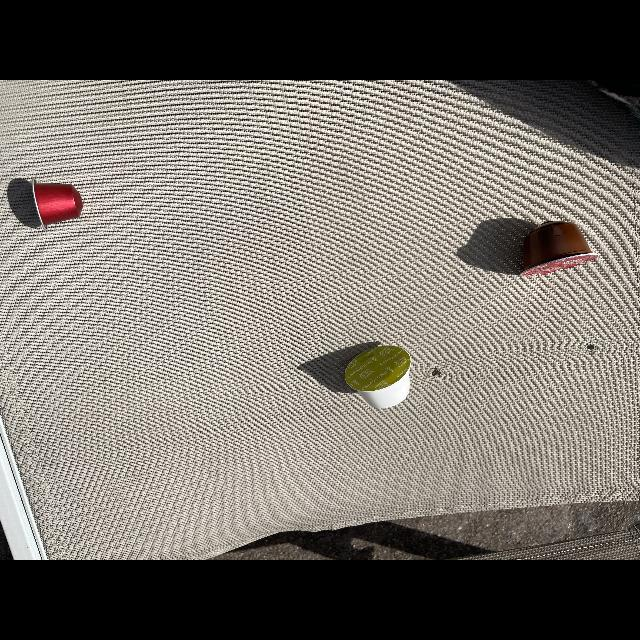intact_capsule: (333, 338, 422, 420), (510, 210, 604, 286), (16, 176, 86, 236)
